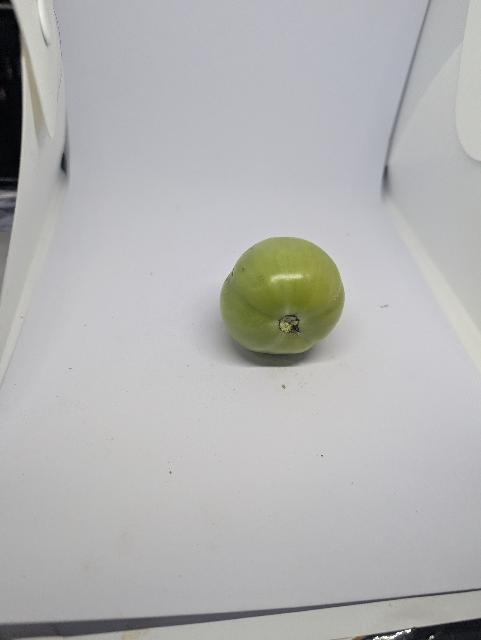green: (203, 219, 362, 365)
